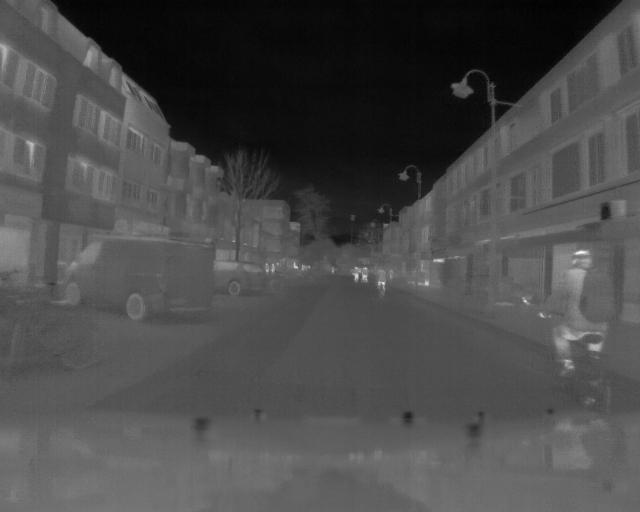car: (215, 258, 268, 300)
person: (560, 248, 613, 376), (377, 266, 388, 297), (352, 264, 361, 283), (362, 265, 370, 286)
